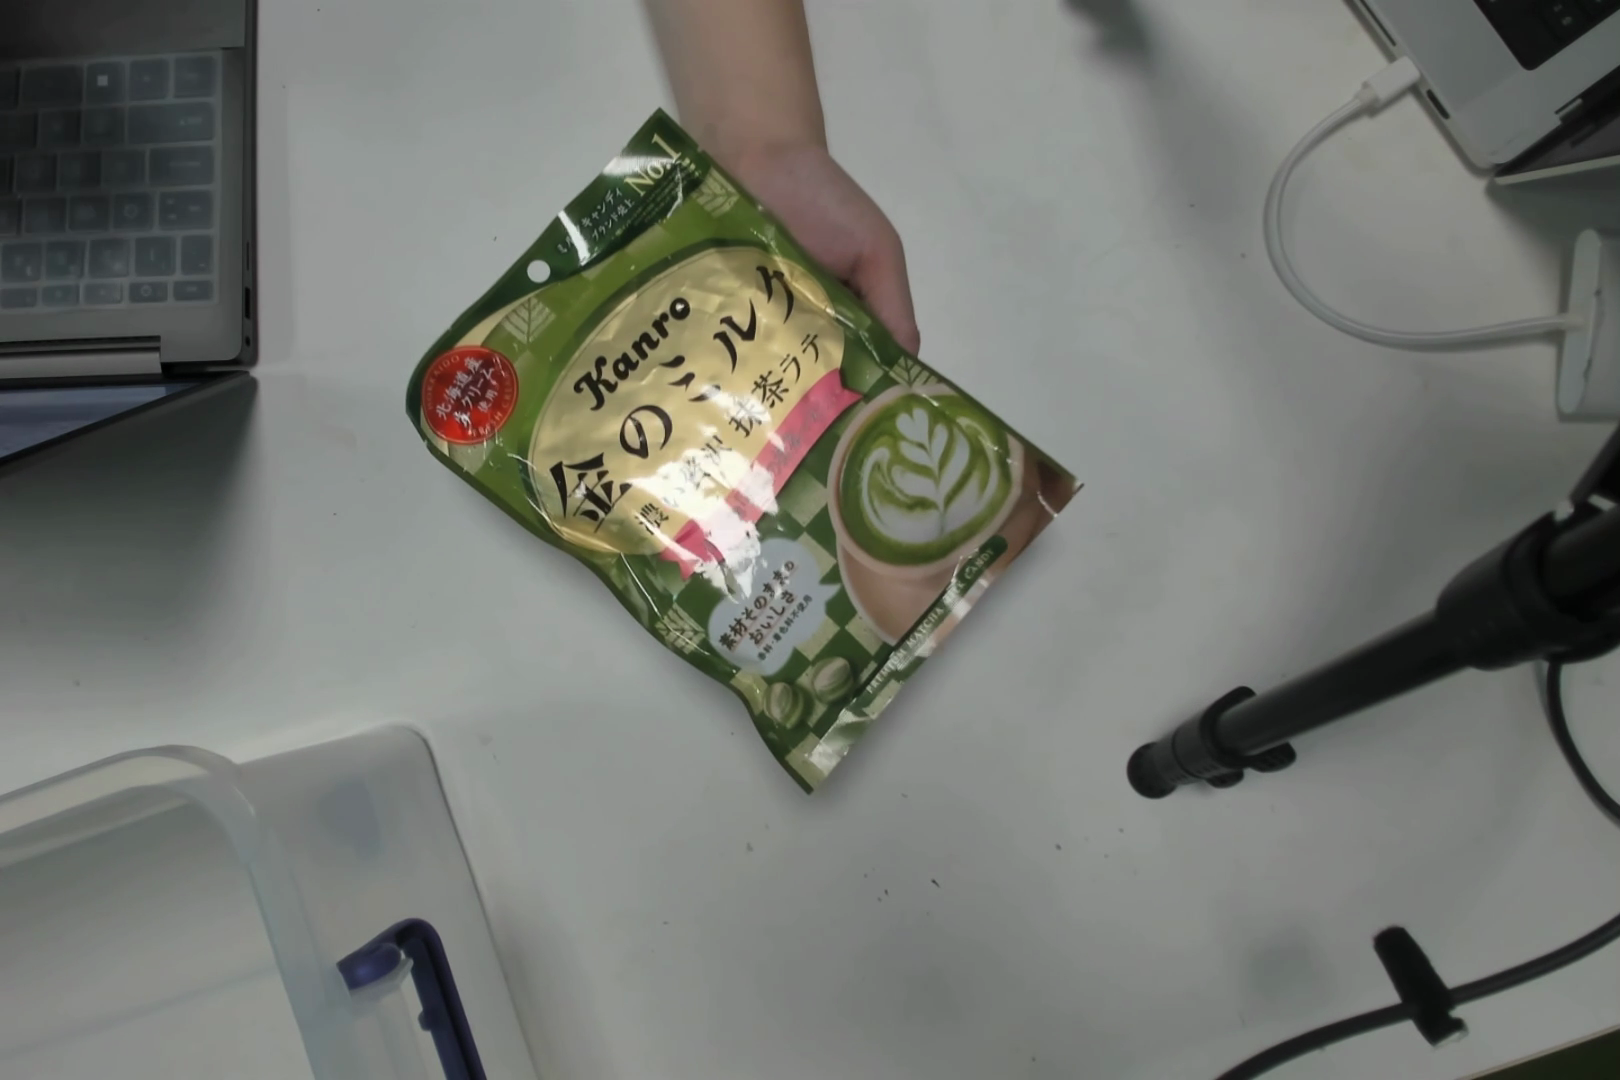SweetsChocolatesOthers_1-99g_NonHalal_NonHealthy: (545, 183, 1031, 704)
